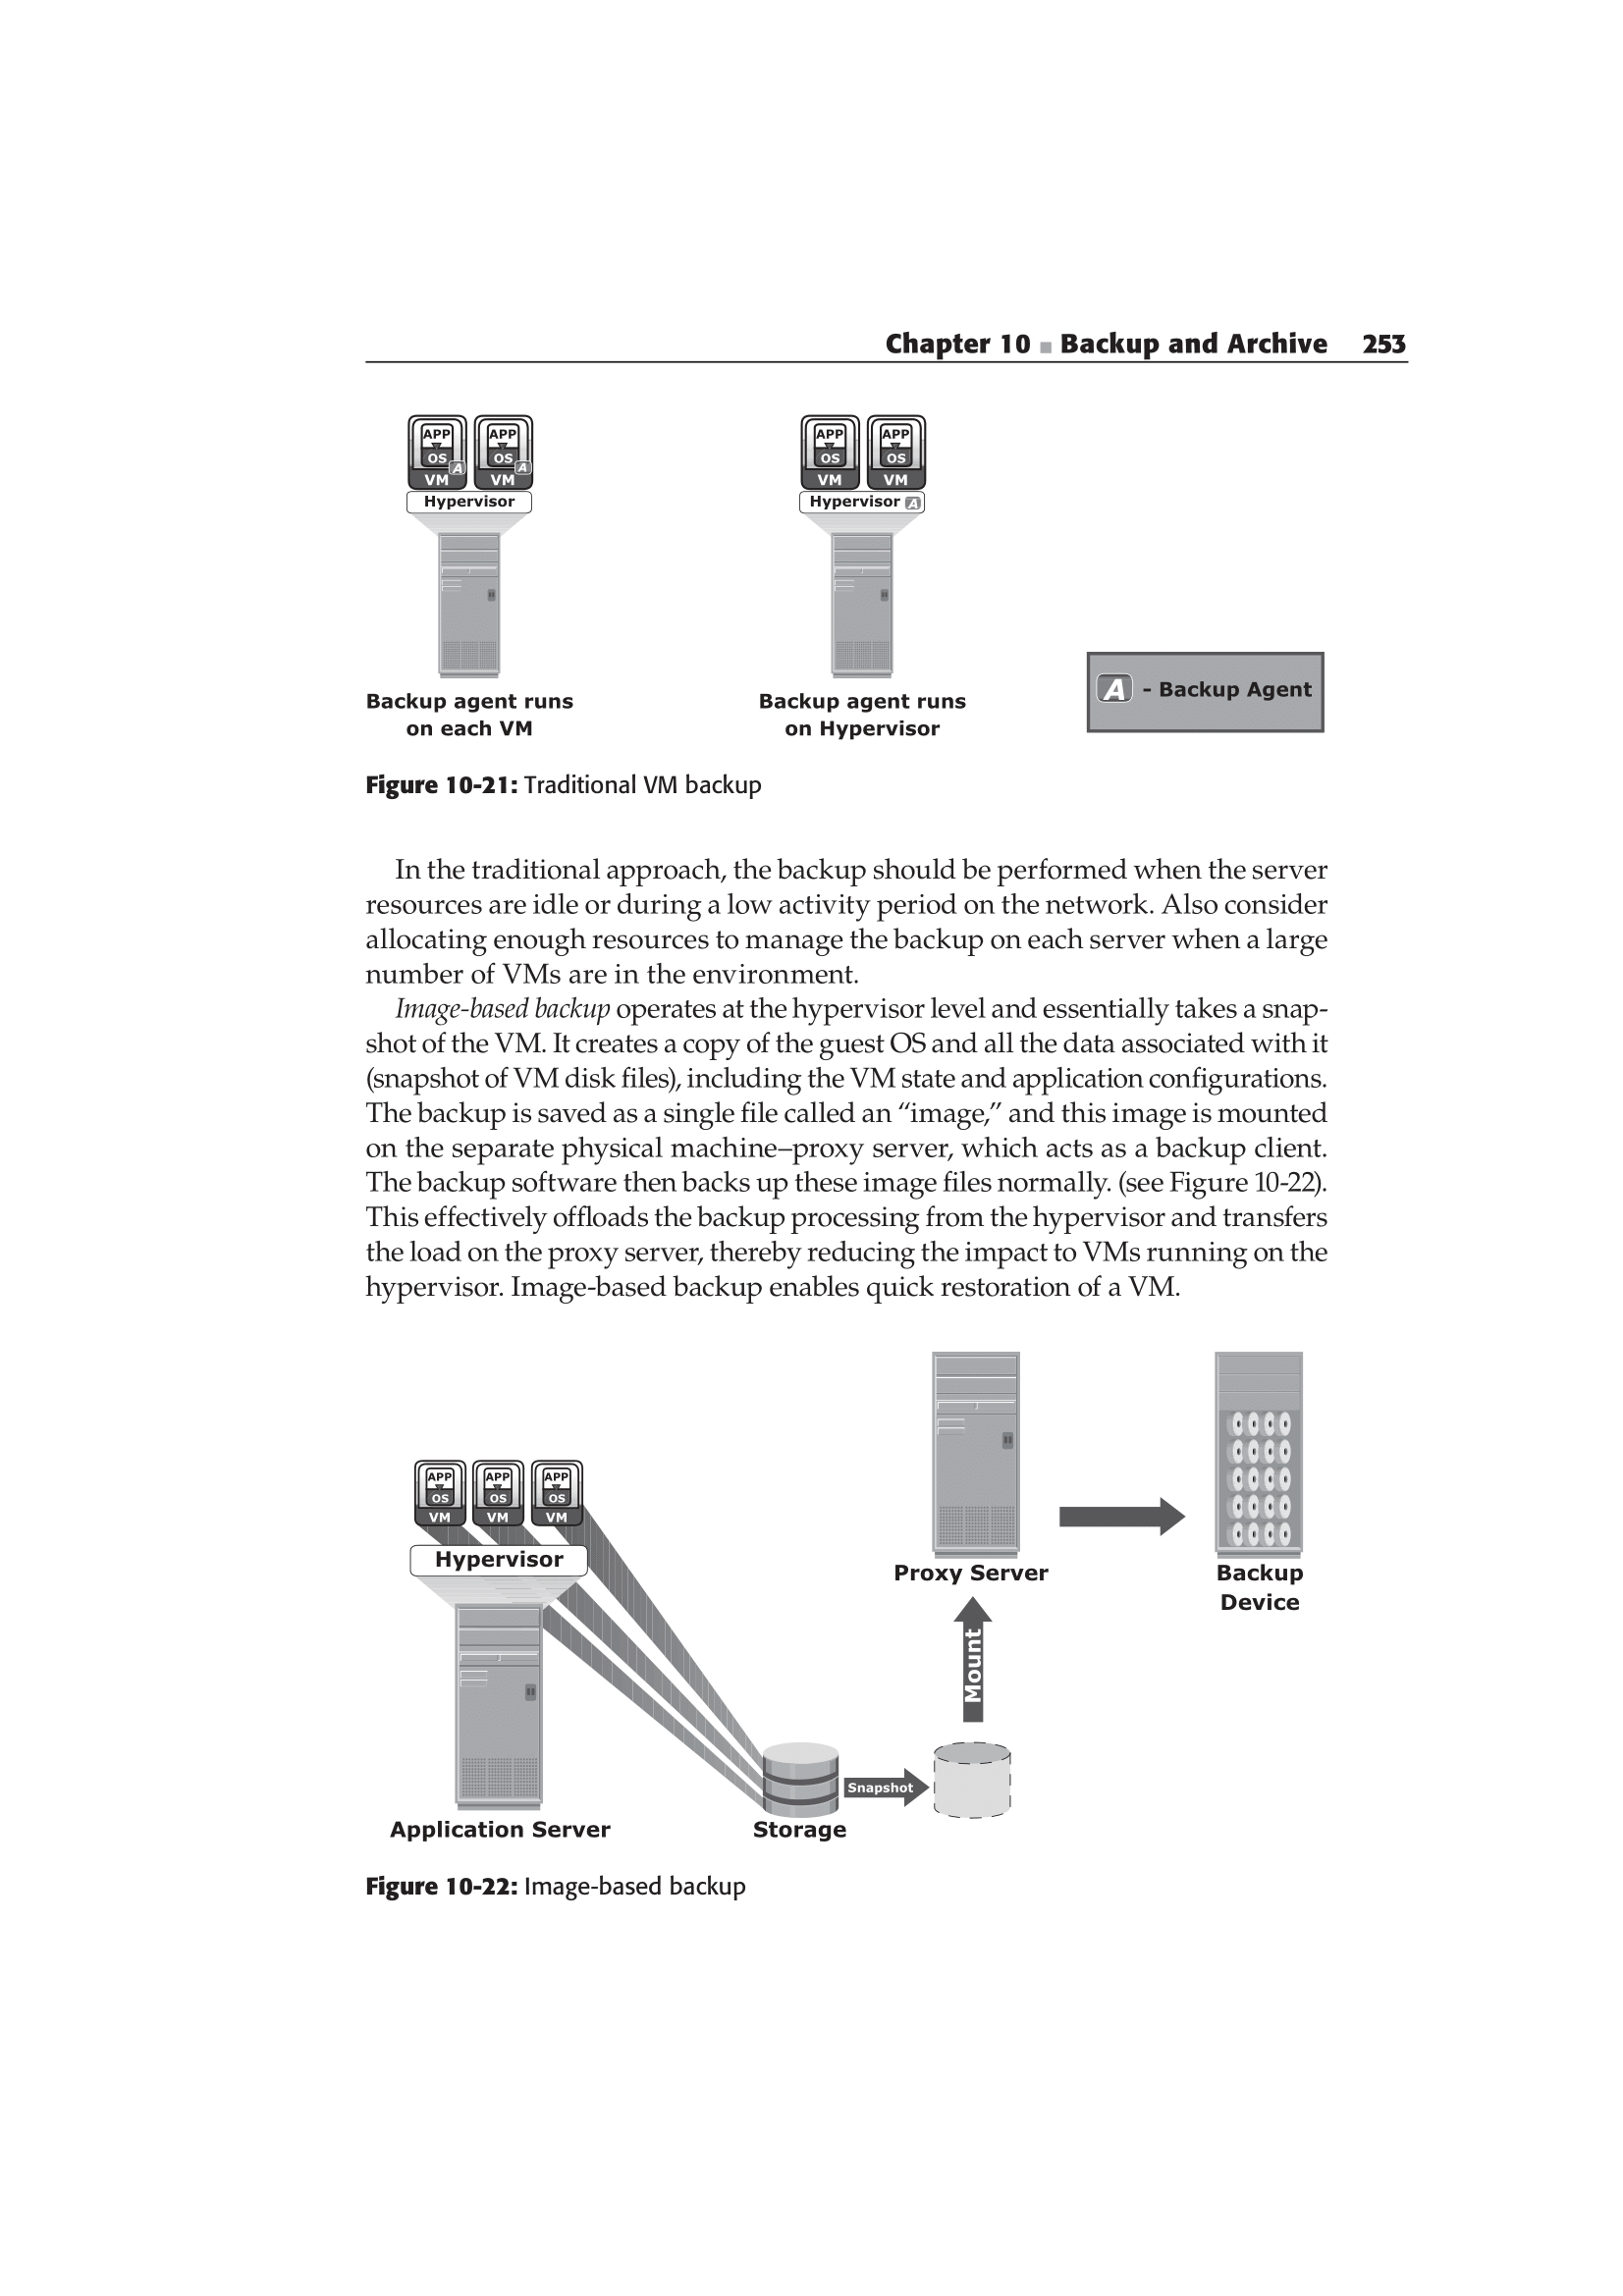Image: (218, 1336, 1551, 1840), (221, 390, 1403, 762)
Paragraph: (214, 994, 1539, 1295), (276, 843, 1470, 997), (263, 1861, 901, 1945), (704, 323, 1479, 356), (297, 771, 919, 800)
